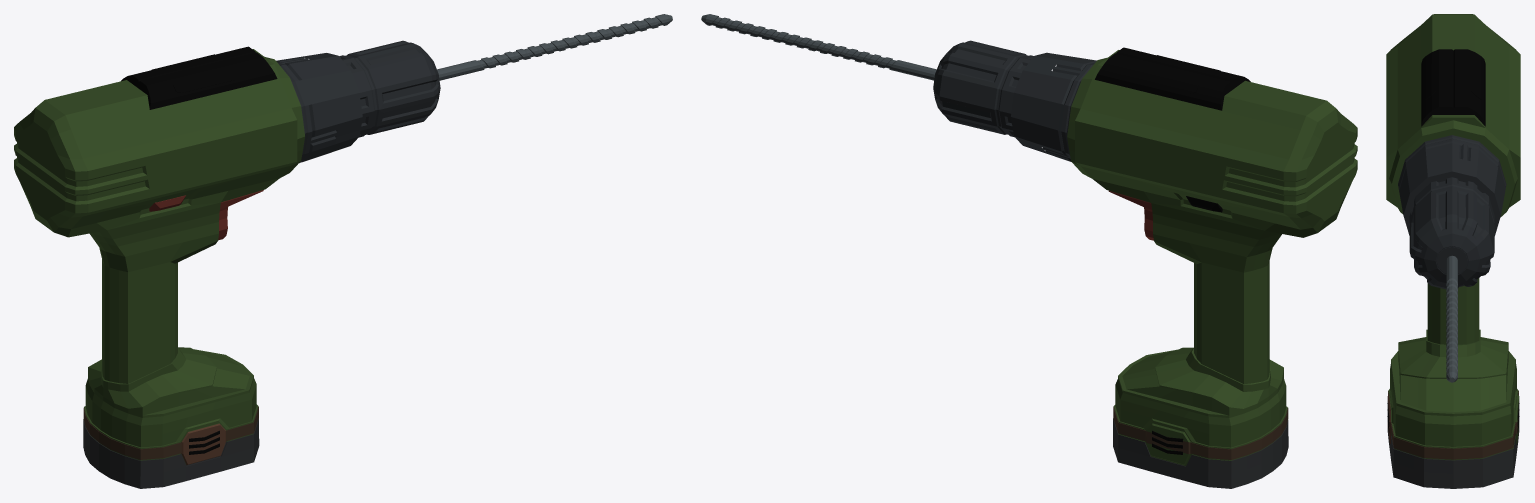
File: SM_ELECTRIC_DRILL.gltf
3 renders of one model, left to right at view 1: azimuth 30°, elevation 25°; view 2: azimuth 150°, elevation 25°; view 3: azimuth 270°, elevation 25°, orthographic.
Visible parts, largest first — view 1: SM_ELECTRIC_DRILL, DRILL_BIT; view 2: SM_ELECTRIC_DRILL, DRILL_BIT; view 3: SM_ELECTRIC_DRILL, DRILL_BIT.
Part boxes in pixels (<box>): SM_ELECTRIC_DRILL: <box>14,46,362,488</box>; DRILL_BIT: <box>339,14,672,137</box>; SM_ELECTRIC_DRILL: <box>1011,47,1357,488</box>; DRILL_BIT: <box>701,14,1034,137</box>; SM_ELECTRIC_DRILL: <box>1386,14,1520,488</box>; DRILL_BIT: <box>1409,177,1494,382</box>.
Bounding box in the file's own units: 0.4362 × 0.252 × 0.0795.
